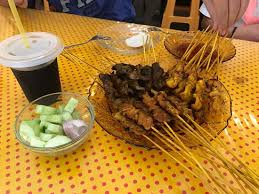sate: (97, 56, 224, 153)
